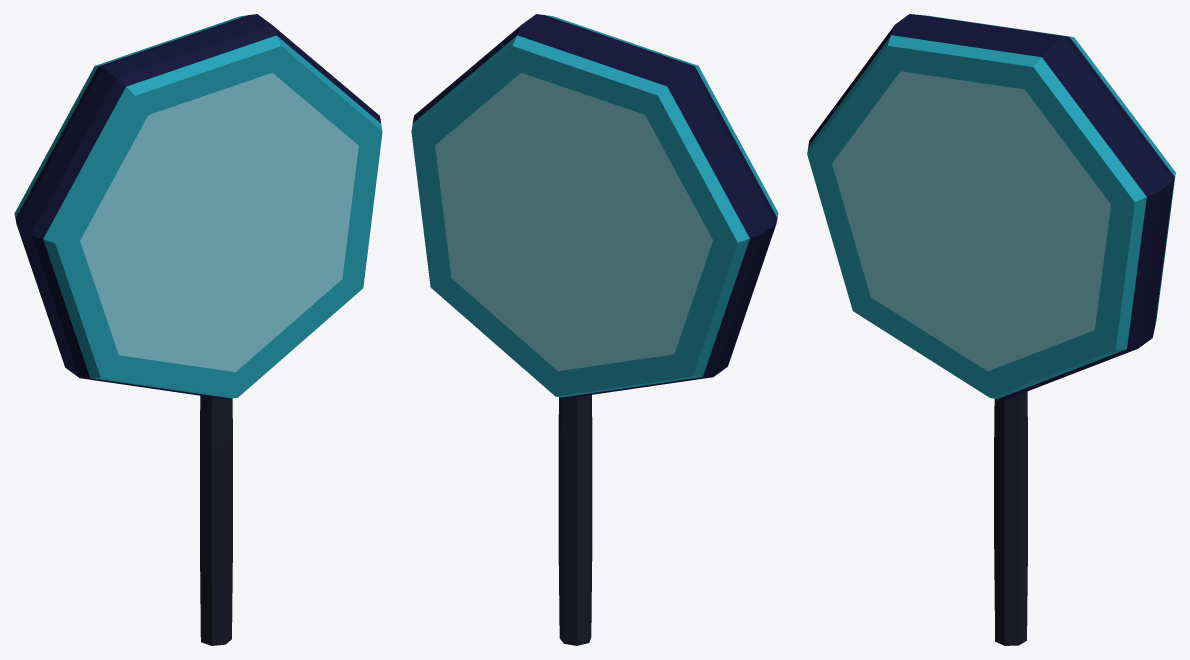
The model's file is Sign.Buckle.fbx.
3 renders of one model, left to right at view 1: azimuth 30°, elevation 25°; view 2: azimuth 150°, elevation 25°; view 3: azimuth 330°, elevation 25°, orthographic.
Parts seen in each view (by area): view 1: Sign.Buckle; view 2: Sign.Buckle; view 3: Sign.Buckle.
Boxes of the visible parts, x1,y1,x2,y2 form: Sign.Buckle: (14, 14, 382, 645); Sign.Buckle: (411, 14, 778, 645); Sign.Buckle: (807, 14, 1175, 645).
Bounding box in the file's own units: 180 × 300 × 36.41.
